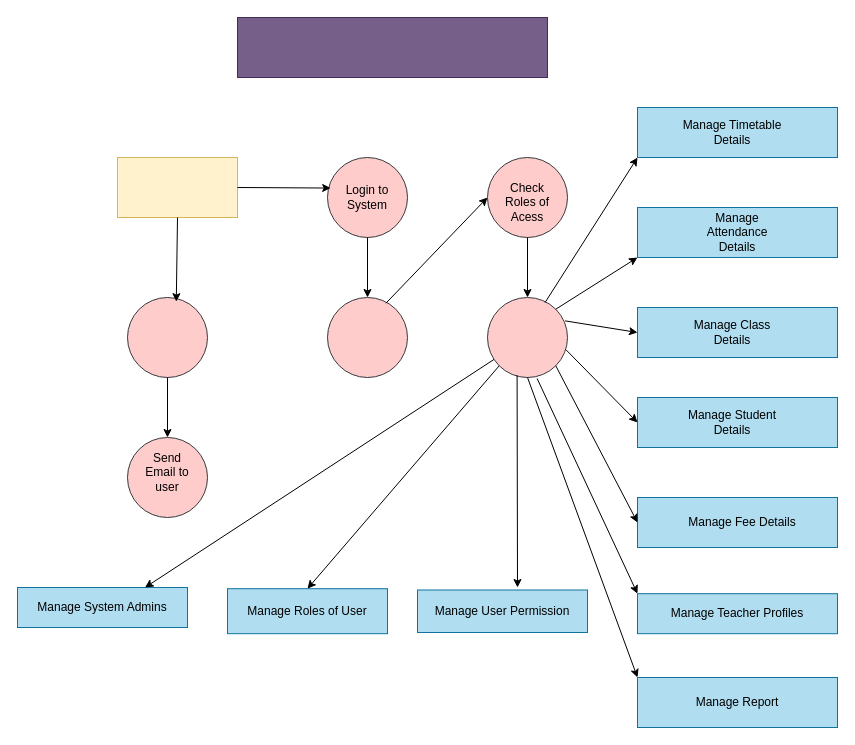
Image size: 855x745. Some labels were removed from this diagram. The centre of each missing label's shape, as x and y in pixels:
"Admin" goes at pixel 177 187.
"Check Credentials" goes at pixel 367 337.
"Forgot Password" goes at pixel 167 337.
"Manage Modules" goes at pixel 527 337.
"Student Information System" goes at pixel 392 47.
